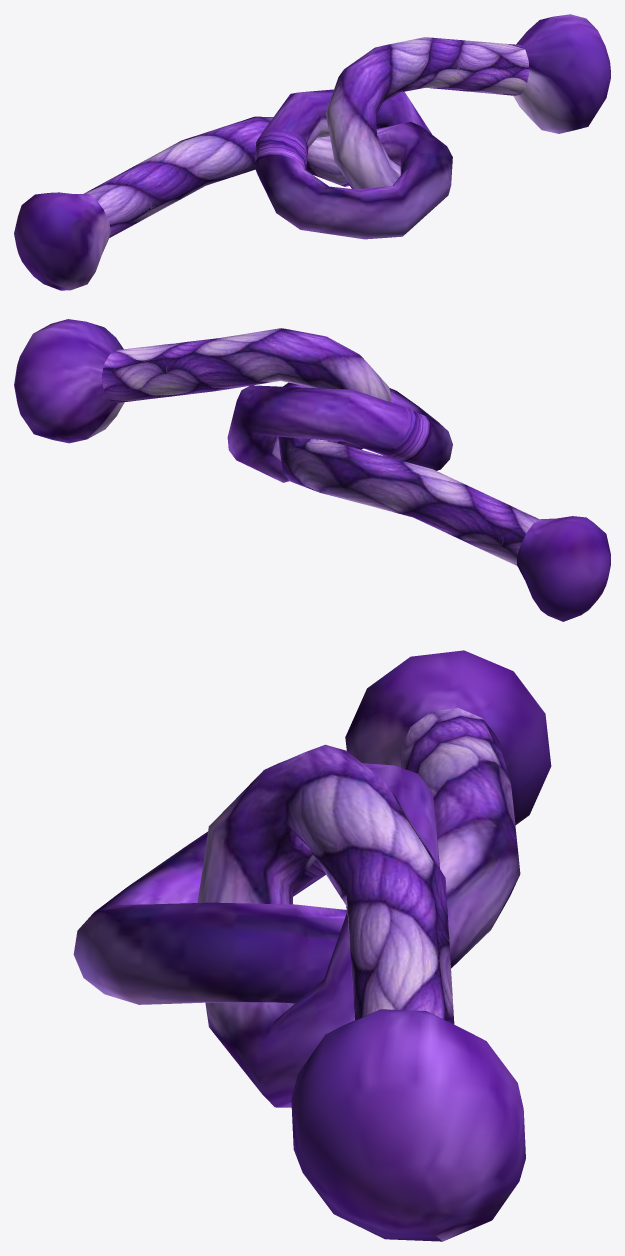
Rendered from JUGUETE.glb.
The picture shows the model from 3 angles, top to bottom: view 1: azimuth 30°, elevation 25°; view 2: azimuth 150°, elevation 25°; view 3: azimuth 270°, elevation 25°; orthographic projection. The views are drawn at different scales.
Parts seen in each view (by area): view 1: Plane; view 2: Plane; view 3: Plane.
Part boxes in pixels (<box>): Plane: <box>14,14,610,290</box>; Plane: <box>14,319,610,621</box>; Plane: <box>73,650,551,1241</box>.
Size of the model in its own units: 1.22 by 0.3752 by 0.4397.
Materials: 1 (1 with a texture image).
